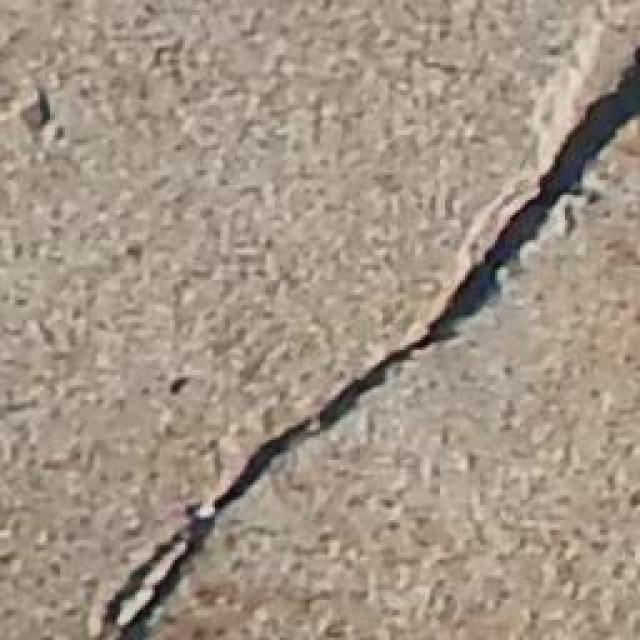concrete-crack: (86, 35, 640, 640)
